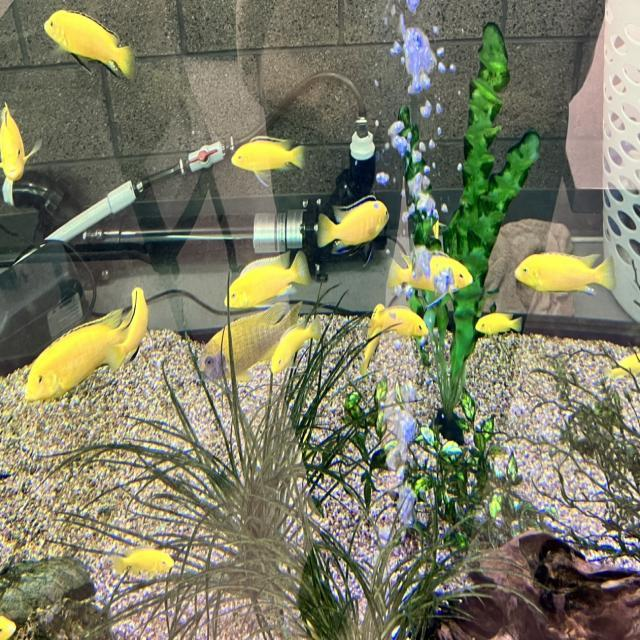YellowCichlid: (18, 284, 156, 397), (29, 0, 150, 91), (507, 246, 625, 298), (0, 96, 59, 198), (306, 192, 398, 257), (196, 315, 268, 392), (222, 125, 310, 181), (212, 259, 320, 301), (398, 254, 475, 304), (107, 540, 182, 580), (272, 322, 329, 372), (465, 308, 535, 343), (391, 306, 434, 348), (368, 292, 384, 373), (606, 351, 640, 383), (0, 605, 22, 640), (431, 214, 442, 241)
